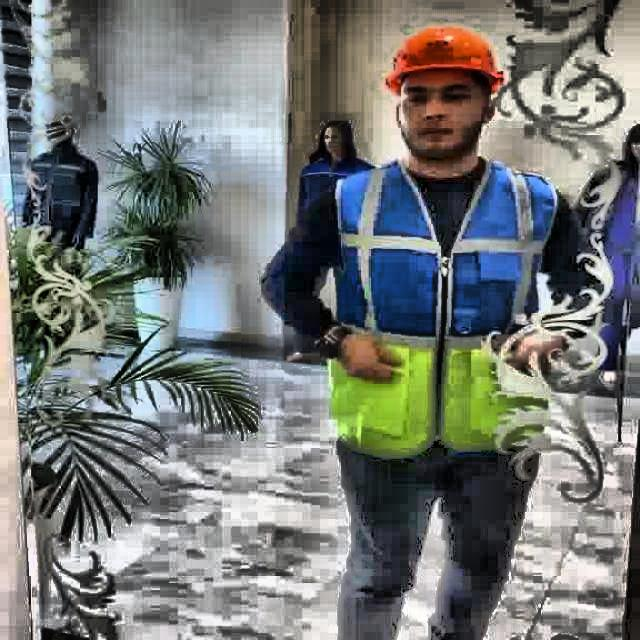safety_helmet: (382, 26, 508, 88)
safety_jacket: (327, 160, 558, 462)
